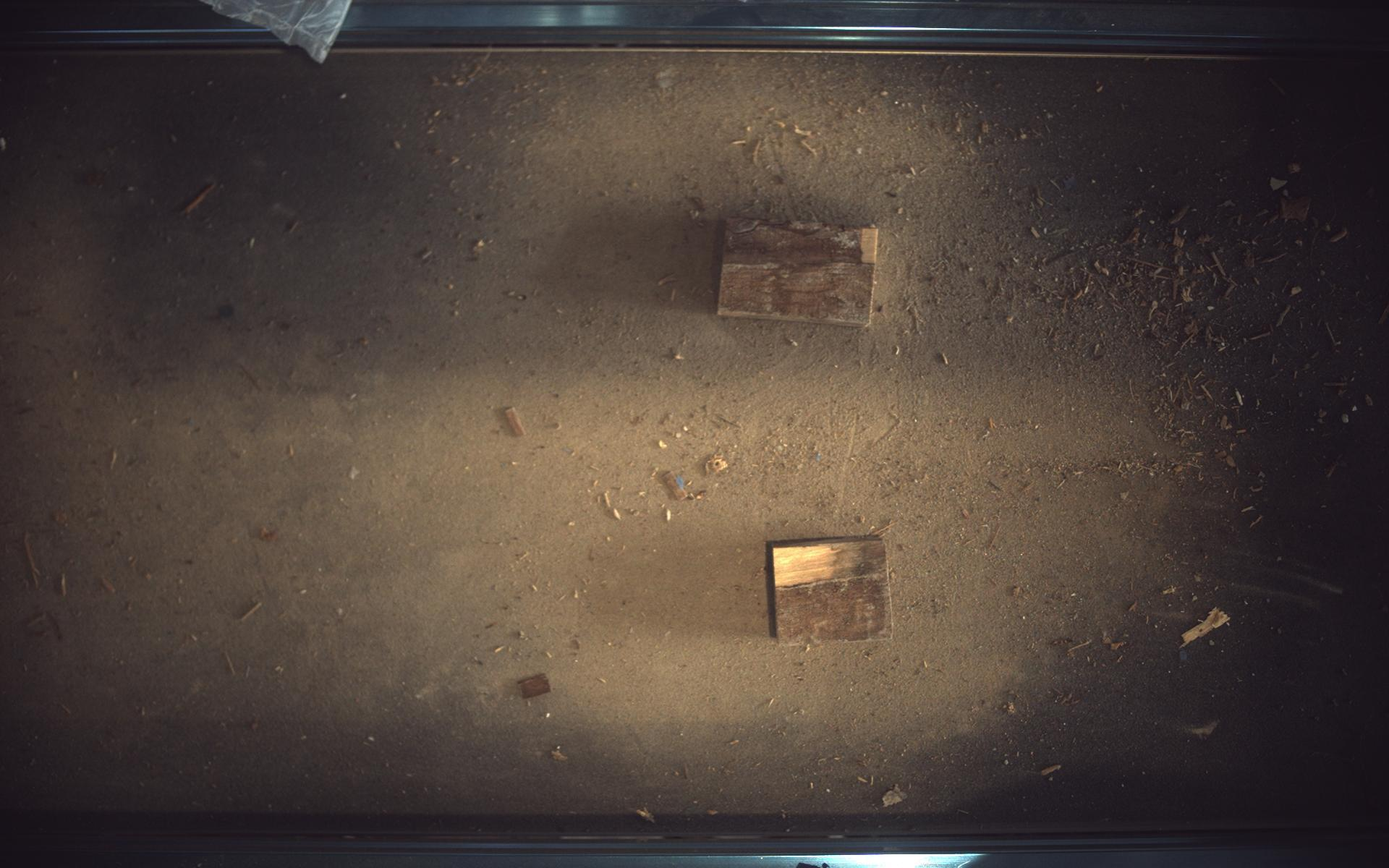wood: (718, 218, 880, 326), (768, 535, 893, 644)
